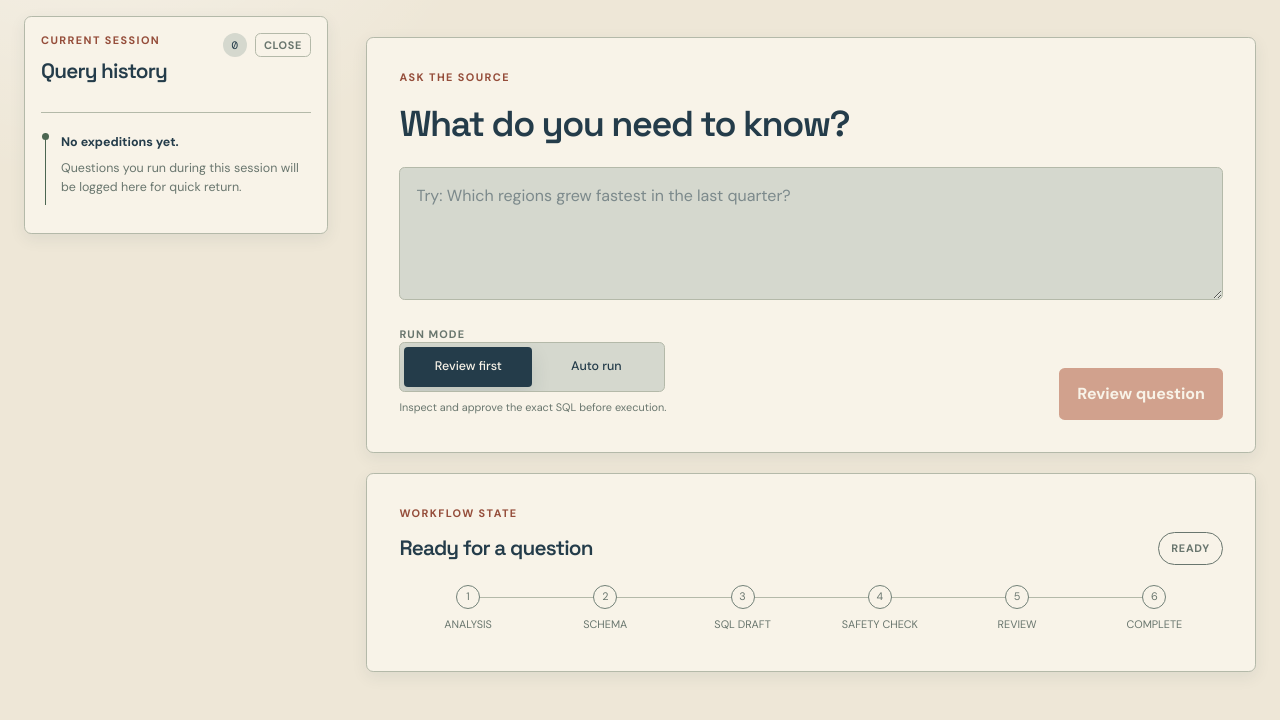
Scenario: Milestone 10 application › keeps run modes equal and explains the selected execution path
(page scrolled)
expect the text "Inspect and approve the exact SQL before execution." is shown: met, box [399, 400, 666, 420]
Click the button "Auto run" at (596, 367), box [532, 347, 660, 387]
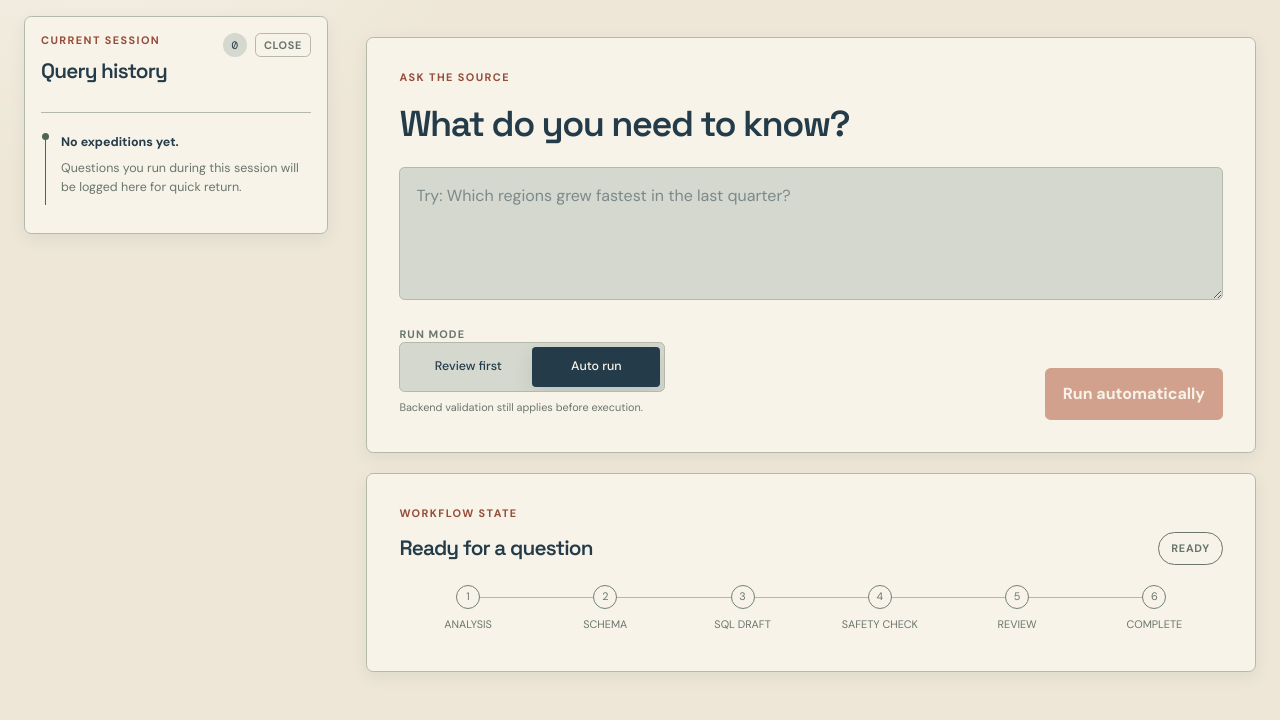
expect the text "Backend validation still applies before execution." is shown: met, box [399, 400, 665, 420]
